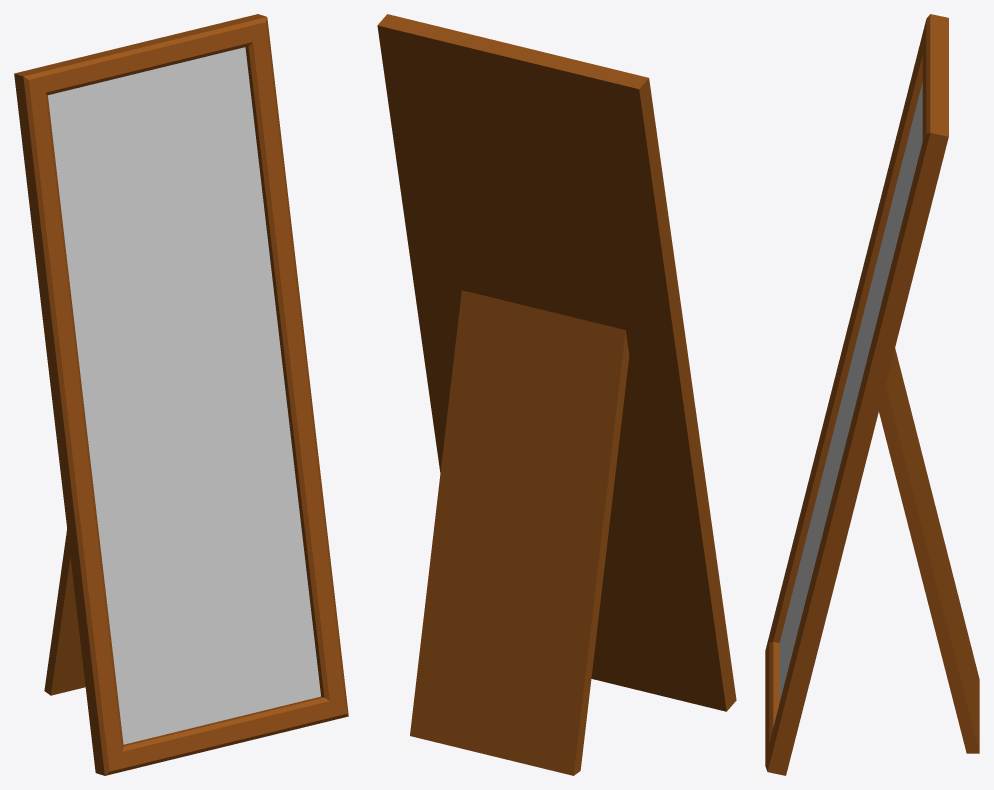
The model's file is mirror.glb.
3 views of the same model, side by side, from view 1: azimuth 30°, elevation 25°; view 2: azimuth 150°, elevation 25°; view 3: azimuth 270°, elevation 25° (orthographic). The views are drawn at different scales.
Parts seen in each view (by area): view 1: mirror; view 2: mirror; view 3: mirror.
Part boxes in pixels (left/top/right/bottom): mirror: left=14, top=14, right=348, bottom=775; mirror: left=377, top=14, right=736, bottom=775; mirror: left=765, top=14, right=979, bottom=775.
Bounding box in the file's own units: 0.6777 × 1.71 × 0.5159.
